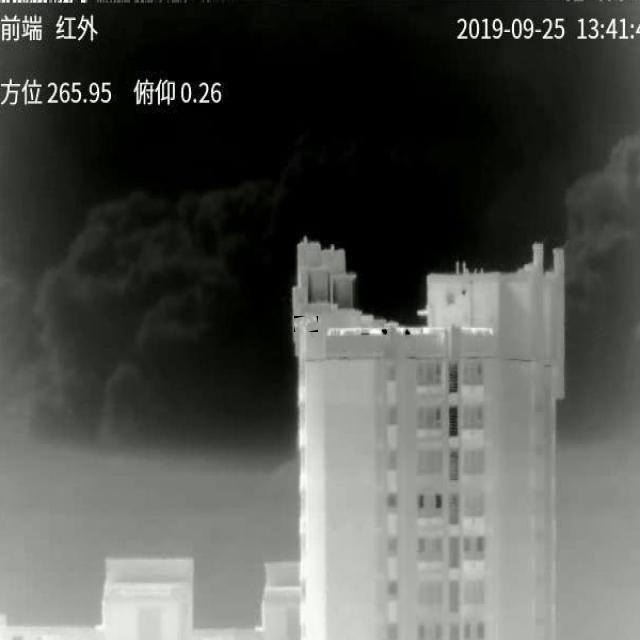drone: (294, 316, 318, 332)
